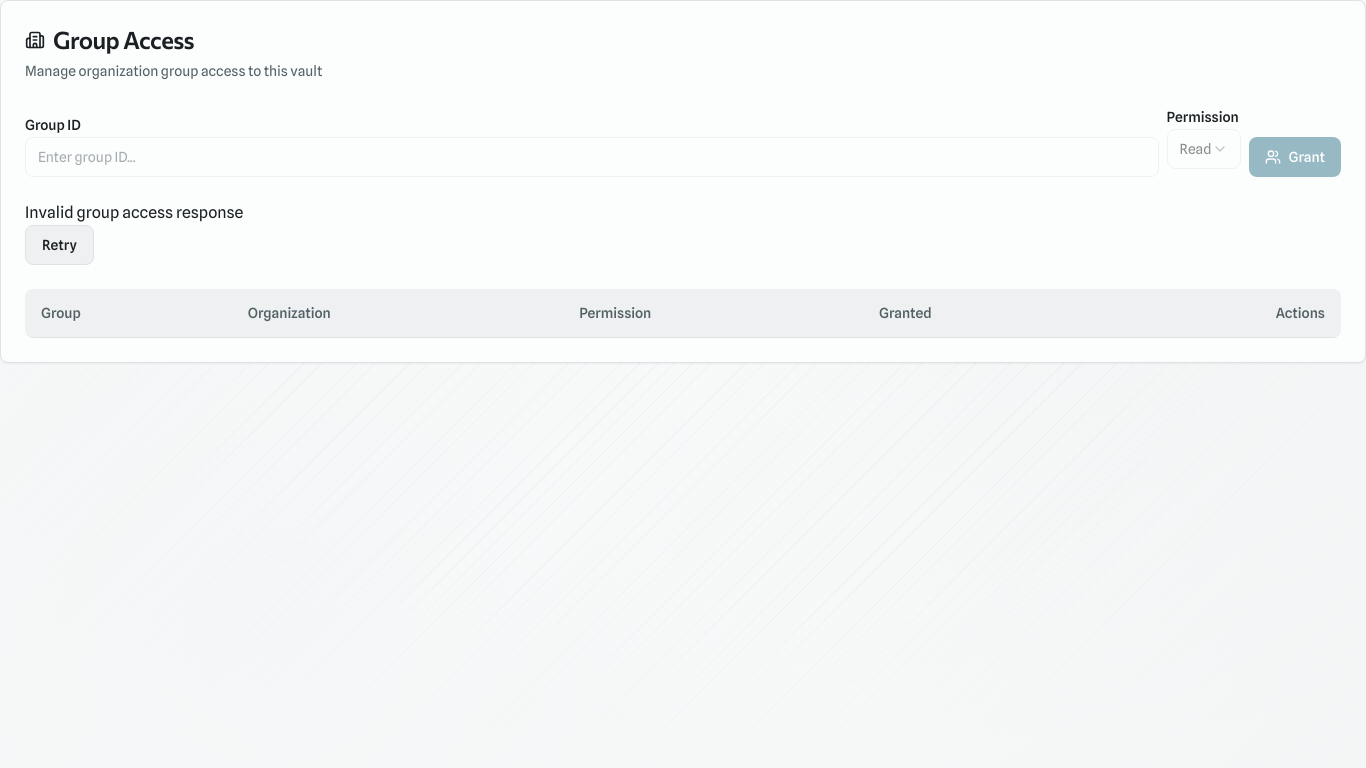
access panel read ownership and outcome controls › keeps group response missing group_access unknown, blocks mutations, and recovers through Retry
Expected: the button "Retry" is shown, top-left (25, 225), bottom-right (94, 265)
In the field named "Group ID to grant vault access": (592,157) top-left (25, 137), bottom-right (1159, 177), type "81"
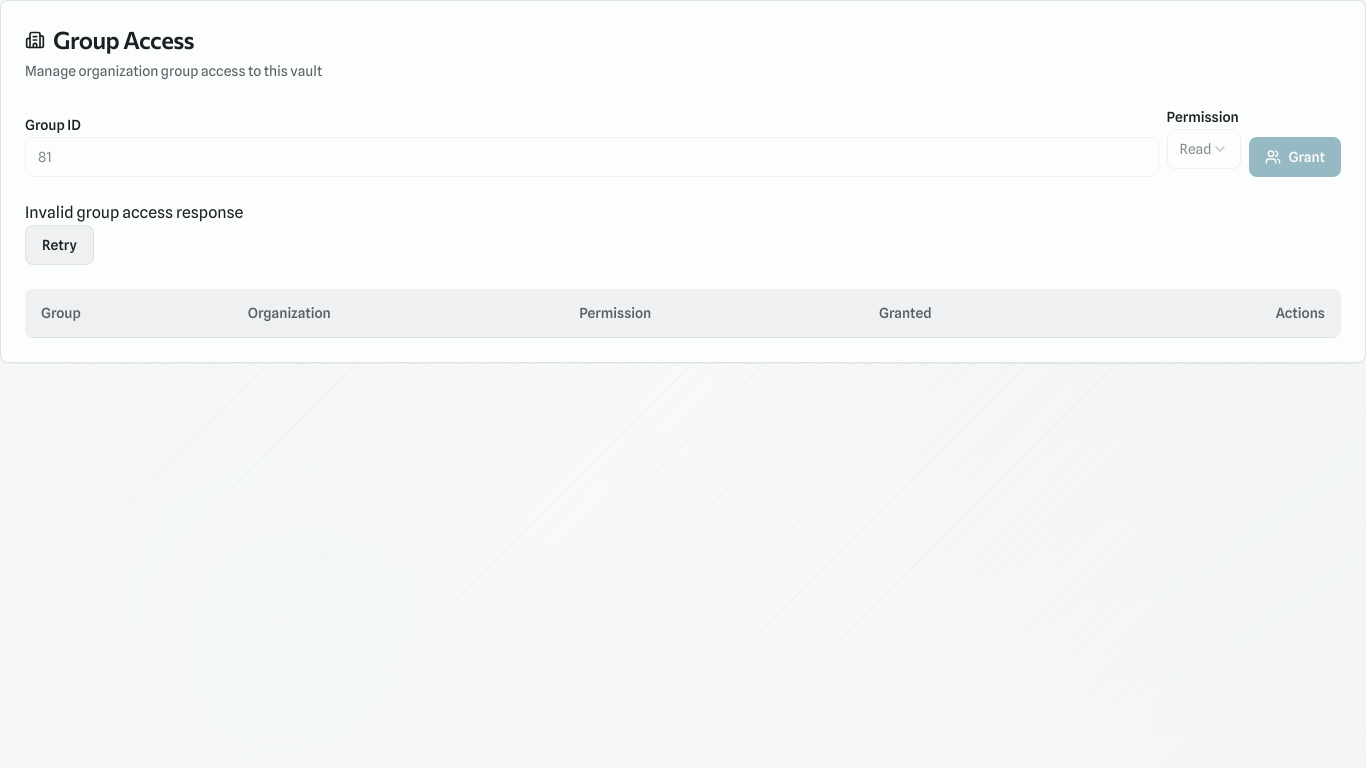
Expected: the button "Grant" is disabled, top-left (1248, 137), bottom-right (1341, 177)
Submit the form, box top-left (25, 105), bottom-right (1341, 177)
Click the button "Retry": (59,245) top-left (25, 225), bottom-right (94, 265)
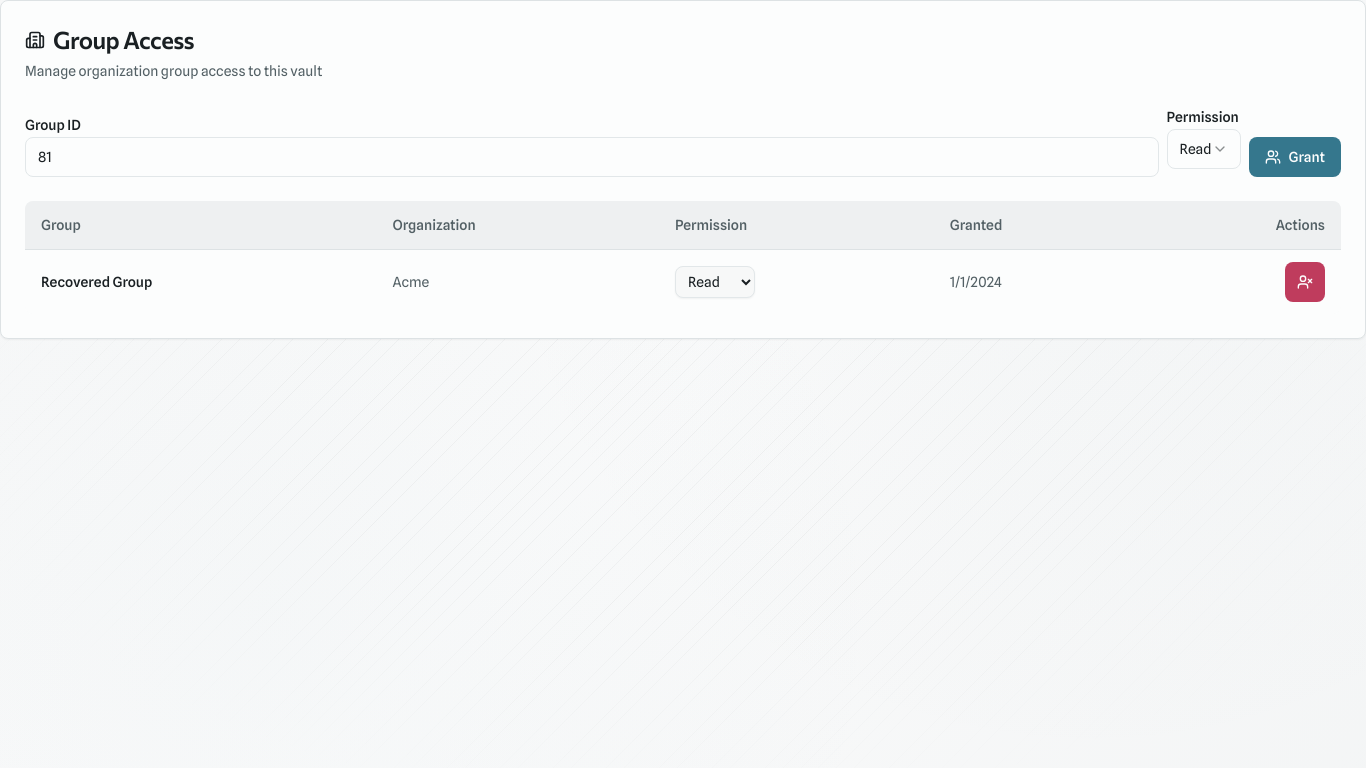
Expected: the text "Recovered Group" is shown, top-left (41, 274), bottom-right (152, 290)
